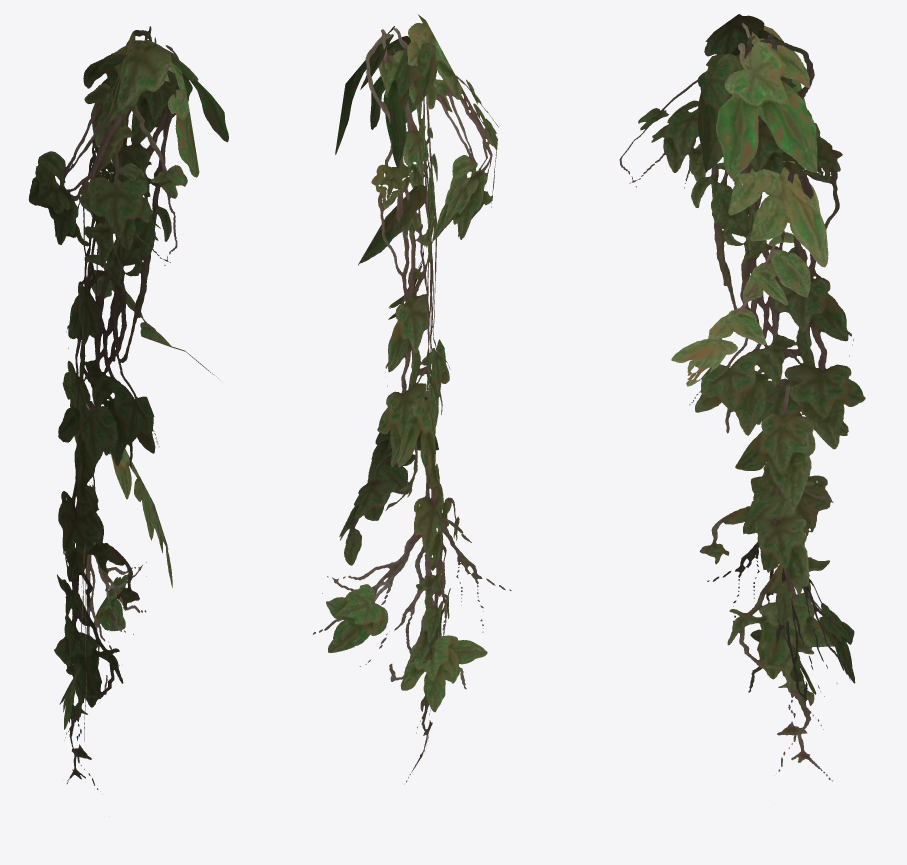
The model's file is SM_Fol_Ivy_Hanging3.fbx.
3 renders of one model, left to right at view 1: azimuth 30°, elevation 25°; view 2: azimuth 150°, elevation 25°; view 3: azimuth 270°, elevation 25°, orthographic. The views are drawn at different scales.
Parts seen in each view (by area): view 1: SM_Fol_Ivy_Hanging3_LOD0; view 2: SM_Fol_Ivy_Hanging3_LOD0; view 3: SM_Fol_Ivy_Hanging3_LOD0.
Boxes of the visible parts, x1,y1,x2,y2 form: SM_Fol_Ivy_Hanging3_LOD0: (28,26,228,794); SM_Fol_Ivy_Hanging3_LOD0: (313,14,511,784); SM_Fol_Ivy_Hanging3_LOD0: (619,14,865,781).
Bounding box in the file's own units: 54.57 × 71.87 × 220.
1 material, 1 textured.
